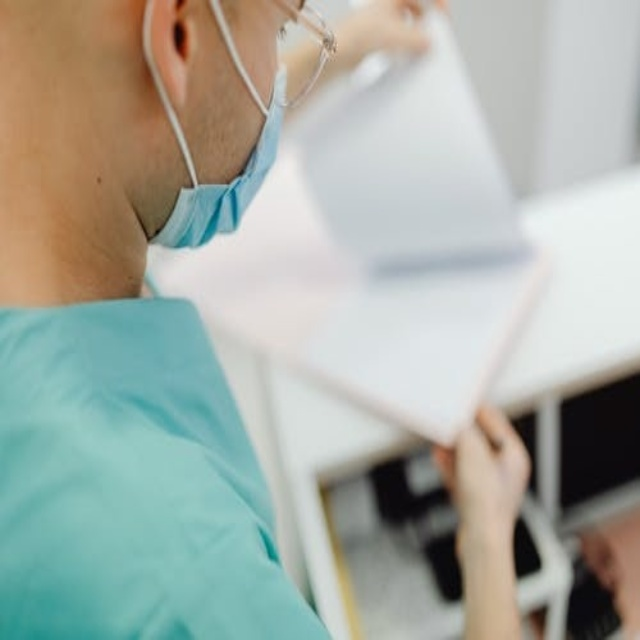Gafas: (189, 1, 337, 119)
Mascara: (143, 10, 285, 253)
Sin_guantes: (434, 399, 530, 554)
